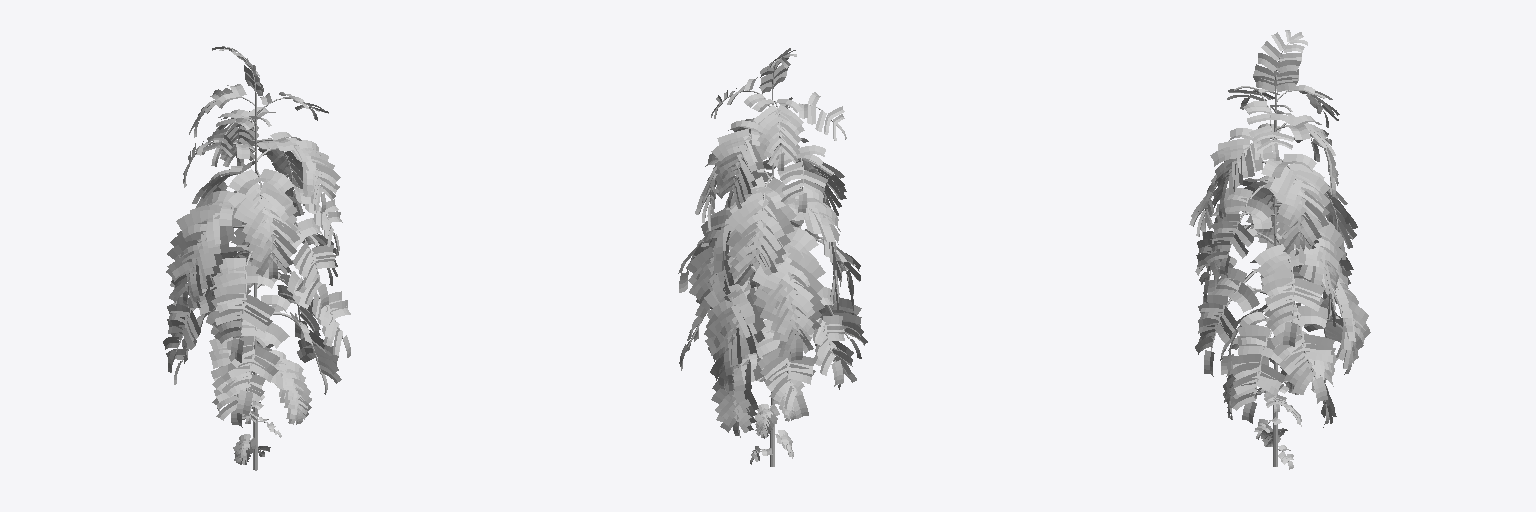
3 views of the same model, side by side, from view 1: azimuth 30°, elevation 25°; view 2: azimuth 150°, elevation 25°; view 3: azimuth 270°, elevation 25° (orthographic).
Parts seen in each view (by area): view 1: AS12_Leaf2, AS12_Leaf1, AS12_Branch1; view 2: AS12_Leaf2, AS12_Leaf1, AS12_Branch1; view 3: AS12_Leaf1, AS12_Leaf2, AS12_Branch1.
Part boxes in pixels (bbox=[...]): AS12_Leaf2: bbox=[163, 46, 342, 464]; AS12_Leaf1: bbox=[167, 47, 350, 464]; AS12_Branch1: bbox=[175, 51, 342, 470]; AS12_Leaf2: bbox=[686, 53, 867, 461]; AS12_Leaf1: bbox=[678, 48, 861, 464]; AS12_Branch1: bbox=[687, 58, 849, 466]; AS12_Leaf1: bbox=[1189, 32, 1370, 469]; AS12_Leaf2: bbox=[1195, 30, 1358, 460]; AS12_Branch1: bbox=[1205, 41, 1337, 466].
Size of the model in its own units: 0.6901 by 1.71 by 0.6663.